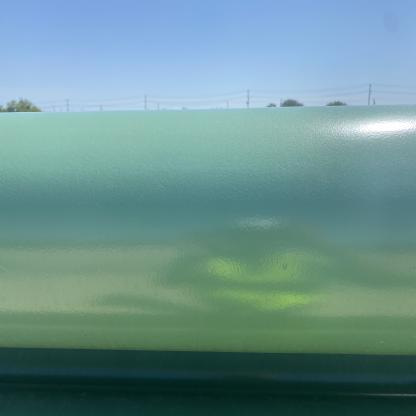clean: (138, 141, 184, 189)
